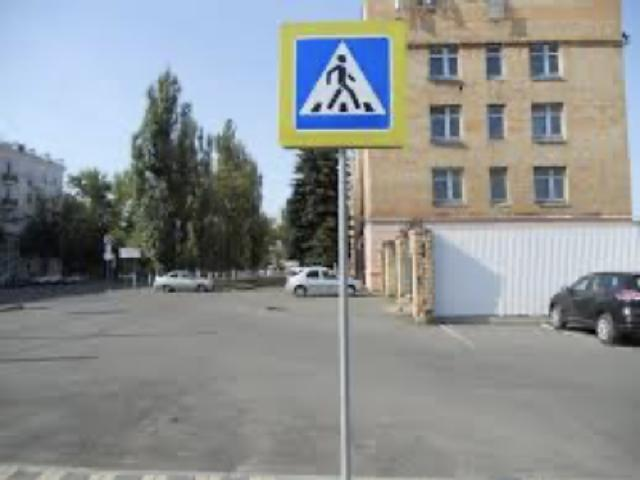crosswalk-sign: (277, 19, 409, 150)
